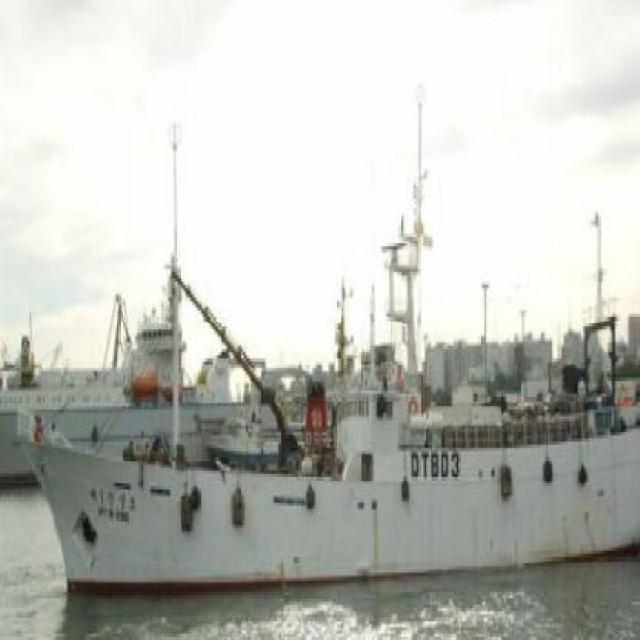fish-b: (16, 219, 640, 622)
